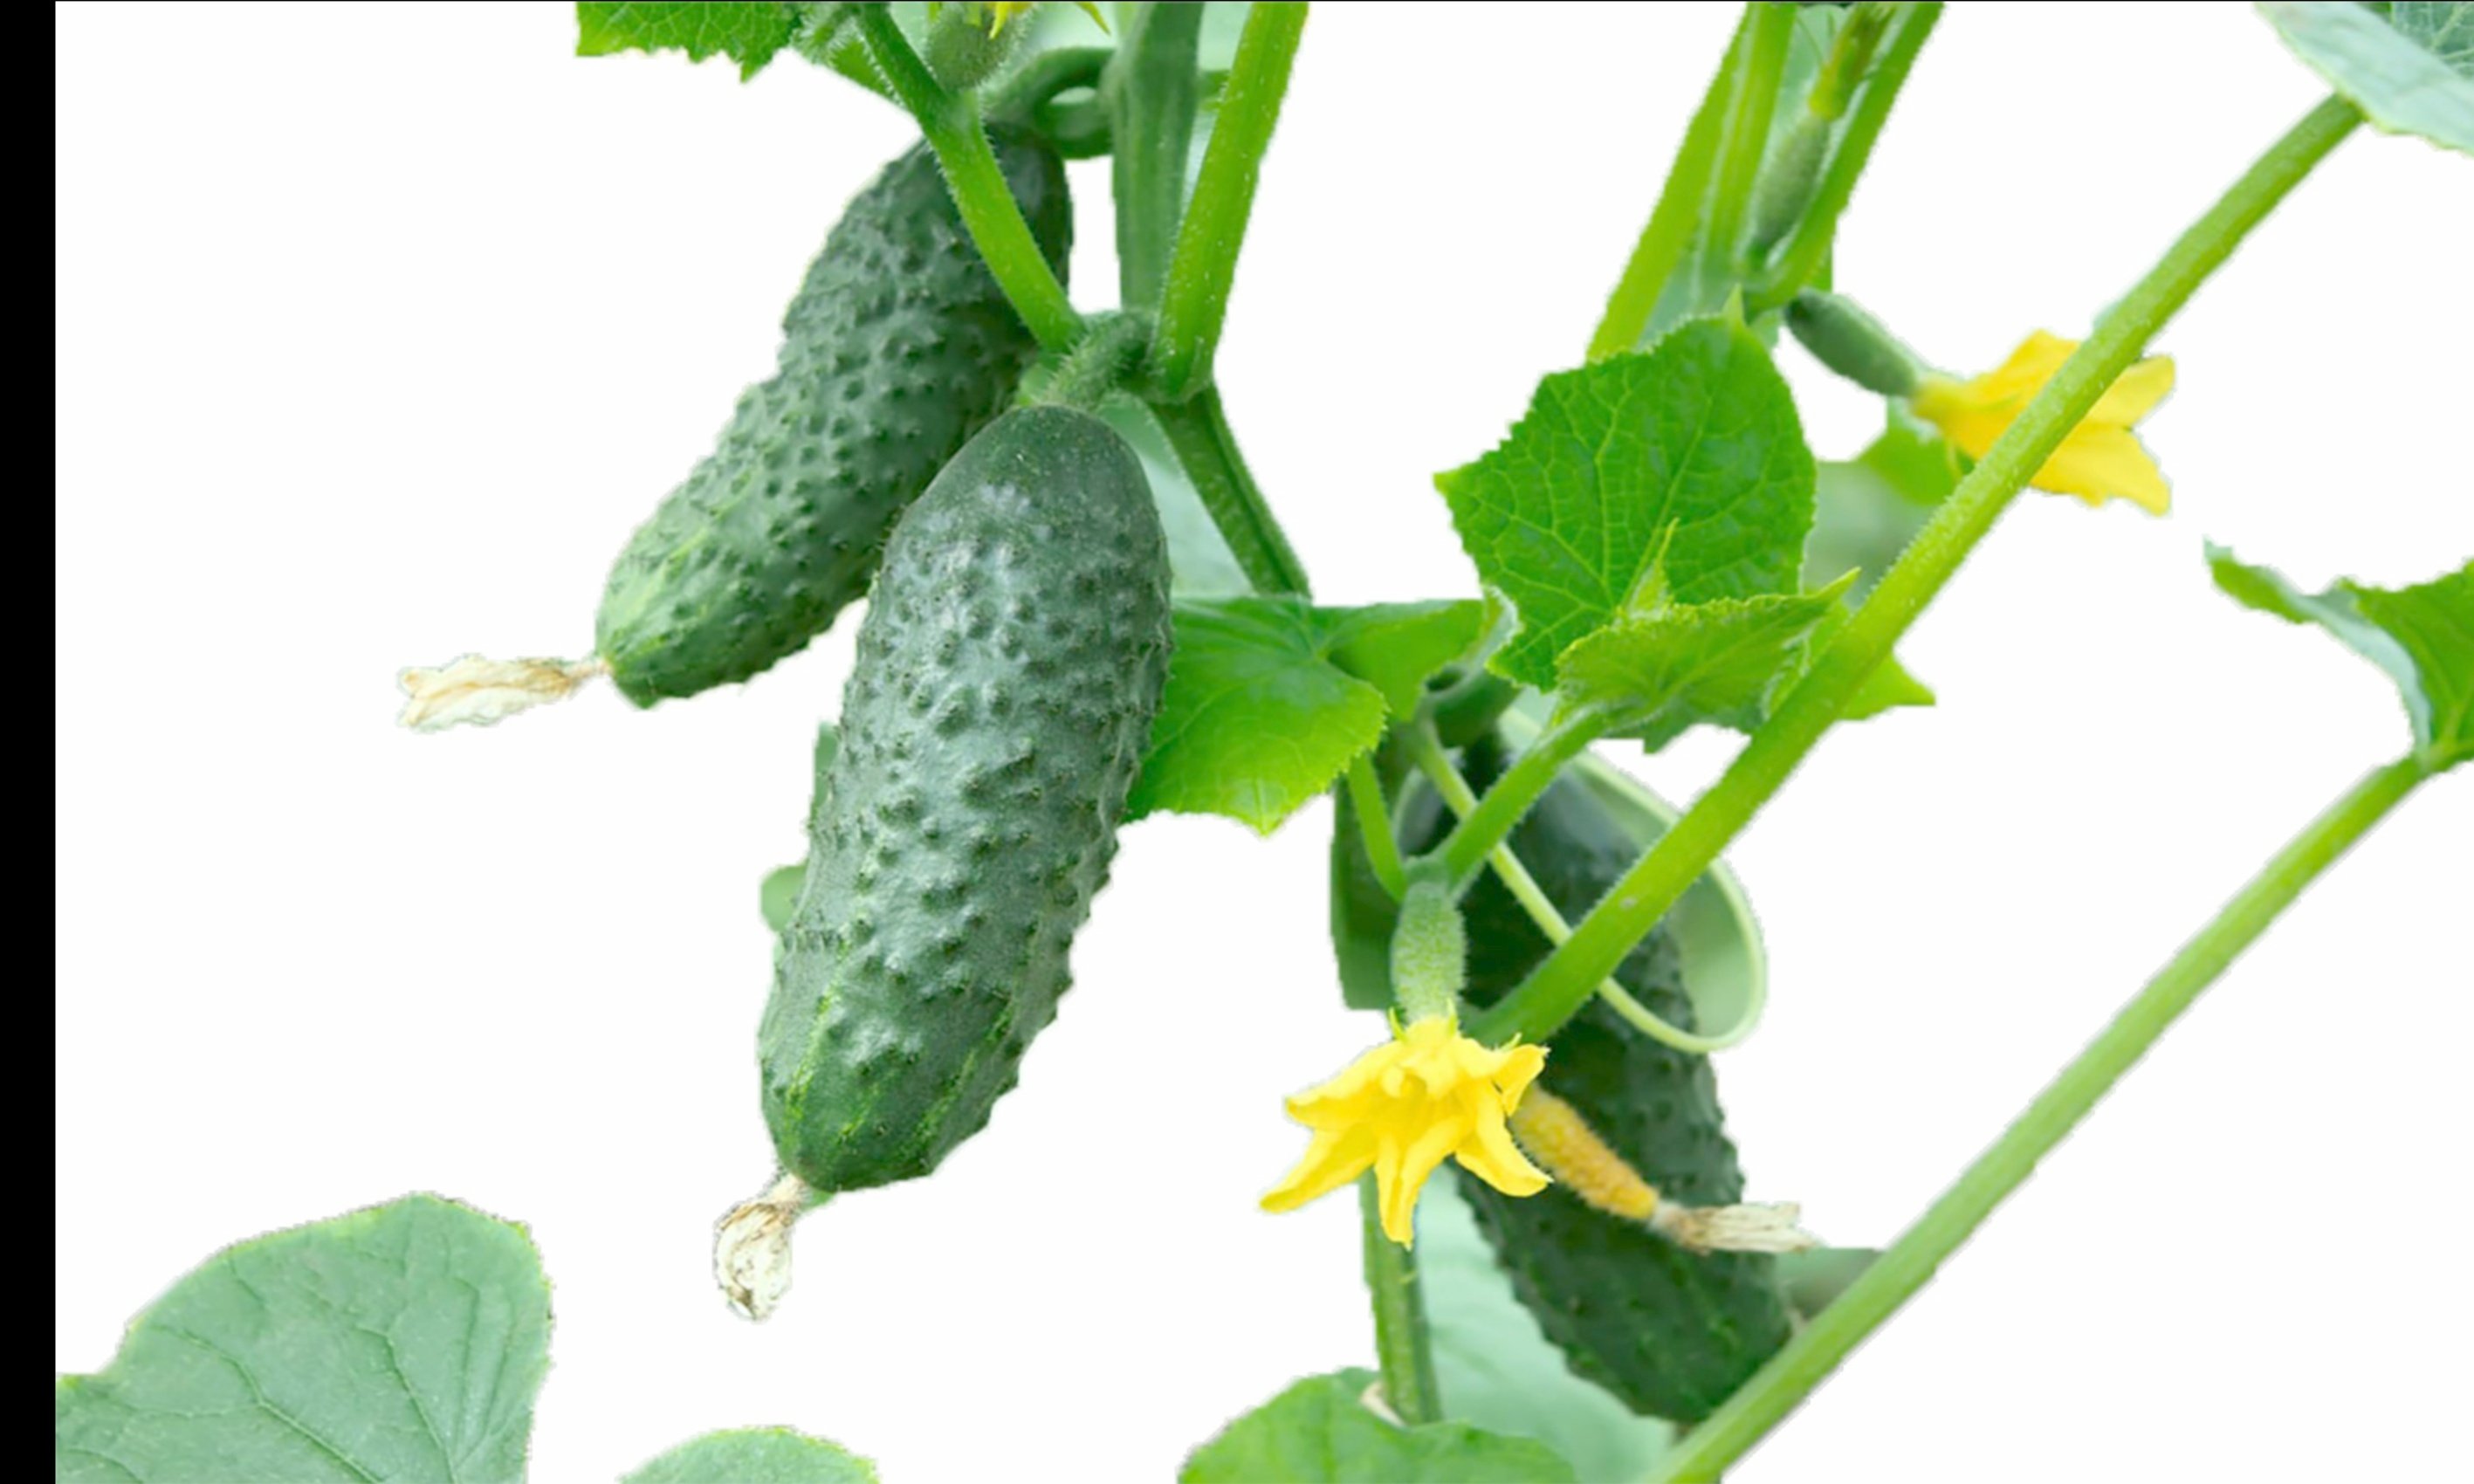cucumber: (540, 99, 1114, 723), (752, 410, 1164, 1205)
cucumber_plant: (1222, 16, 2206, 1399)
